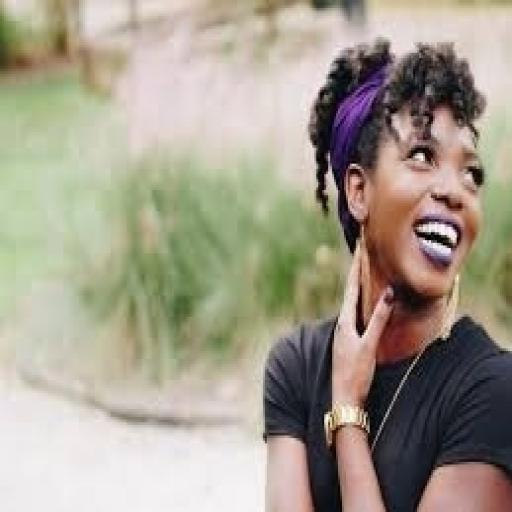laughing: (255, 29, 510, 509)
